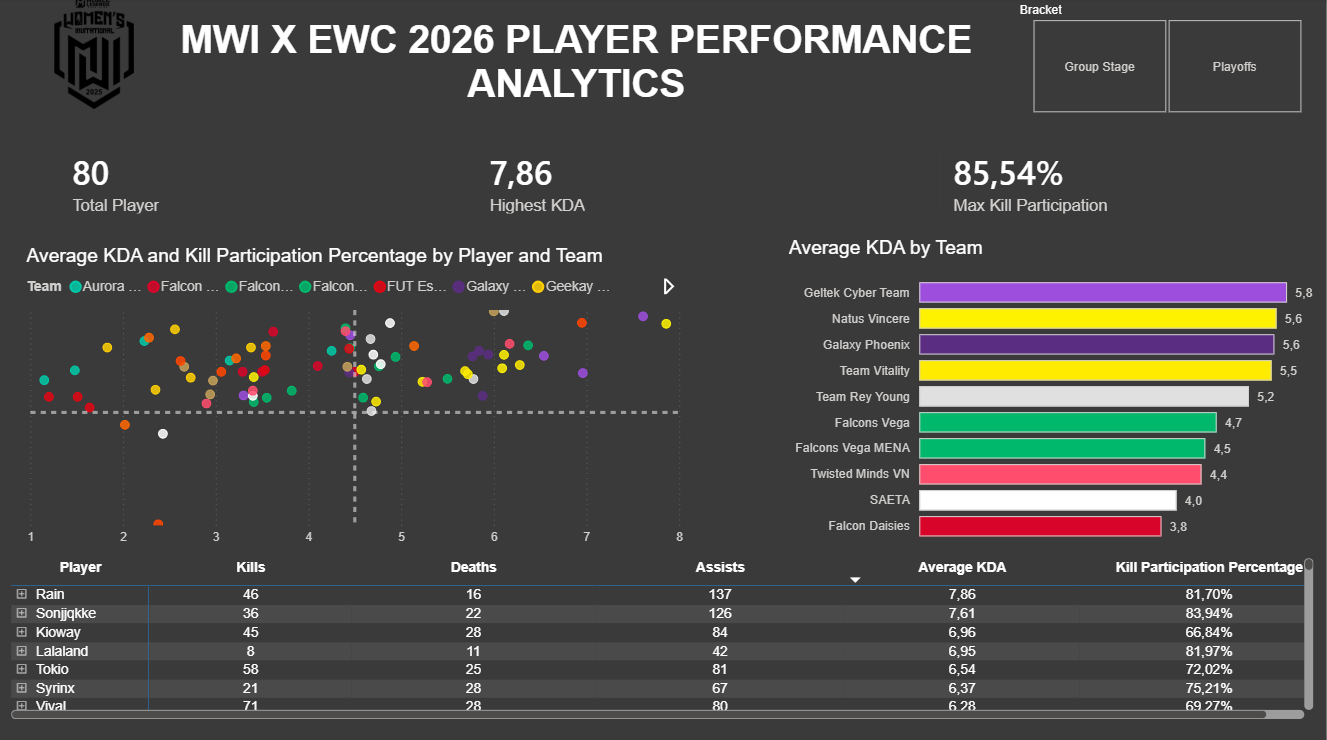

Layout of this report page (visuals, bound fields, positions):
{"tool":"powerbi","page":{"name":"The MVP Formula","canvas":[1280,720],"ordinal":1},"visuals":[{"type":"image","box":[1.2,0,179.8,107.6],"z":0},{"type":"textbox","box":[141.2,14.5,830,103.8],"z":1000},{"type":"slicer","fields":{"Values":["data_mwi_2026.Tahap_Turnamen"]},"box":[971.2,0,308.8,118.2],"z":2000},{"type":"cardVisual","fields":{"Data":["MWI x EWC 2026.Total Player"]},"box":[39.6,129.1,236.5,98.9],"z":3000},{"type":"cardVisual","fields":{"Data":["Max(MWI_KDA.avg_kda)"]},"box":[442.5,129.1,314.9,98.9],"z":4000},{"type":"cardVisual","fields":{"Data":["Max(MWI_KDA.kill_participation_percentage)"]},"box":[890.1,129.1,310.1,98.9],"z":5000},{"type":"scatterChart","fields":{"Category":["MWI_KDA.Player"],"X":["Avg(MWI_KDA.avg_kda)"],"Y":["Avg(MWI_KDA.kill_participation_percentage)"],"Series":["MWI_KDA.Team"]},"box":[20.5,238.9,644.2,298],"z":6000},{"type":"clusteredBarChart","fields":{"Category":["MWI_KDA.Team"],"Y":["Avg(MWI_KDA.avg_kda)"]},"box":[756.1,231.9,516,304.6],"z":7000},{"type":"pivotTable","fields":{"Rows":["MWI_KDA.Player","MWI_KDA.Team"],"Values":["Sum(MWI_KDA.total_kills)","Sum(MWI_KDA.total_deaths)","Sum(MWI_KDA.total_assists)","Sum(MWI_KDA.avg_kda)","Sum(MWI_KDA.kill_participation_percentage)"]},"box":[6,536.9,1266.8,170.1],"z":8000}]}

Visuals, with their boxes in screenshot pixels (x1, y1, x2, y2), scaled from the page's 1280x720 canvas onto the 1327x740 screenshot:
image: {"left": 1, "top": 0, "right": 188, "bottom": 111}
textbox: {"left": 146, "top": 15, "right": 1007, "bottom": 122}
slicer - data_mwi_2026.Tahap_Turnamen: {"left": 1007, "top": 0, "right": 1326, "bottom": 121}
cardVisual - MWI x EWC 2026.Total Player: {"left": 41, "top": 133, "right": 286, "bottom": 234}
cardVisual - Max(MWI_KDA.avg_kda): {"left": 459, "top": 133, "right": 785, "bottom": 234}
cardVisual - Max(MWI_KDA.kill_participation_percentage): {"left": 923, "top": 133, "right": 1244, "bottom": 234}
scatterChart - MWI_KDA.Player x Avg(MWI_KDA.avg_kda): {"left": 21, "top": 246, "right": 689, "bottom": 552}
clusteredBarChart - MWI_KDA.Team x Avg(MWI_KDA.avg_kda): {"left": 784, "top": 238, "right": 1319, "bottom": 551}
pivotTable - MWI_KDA.Player x MWI_KDA.Team: {"left": 6, "top": 552, "right": 1320, "bottom": 727}
